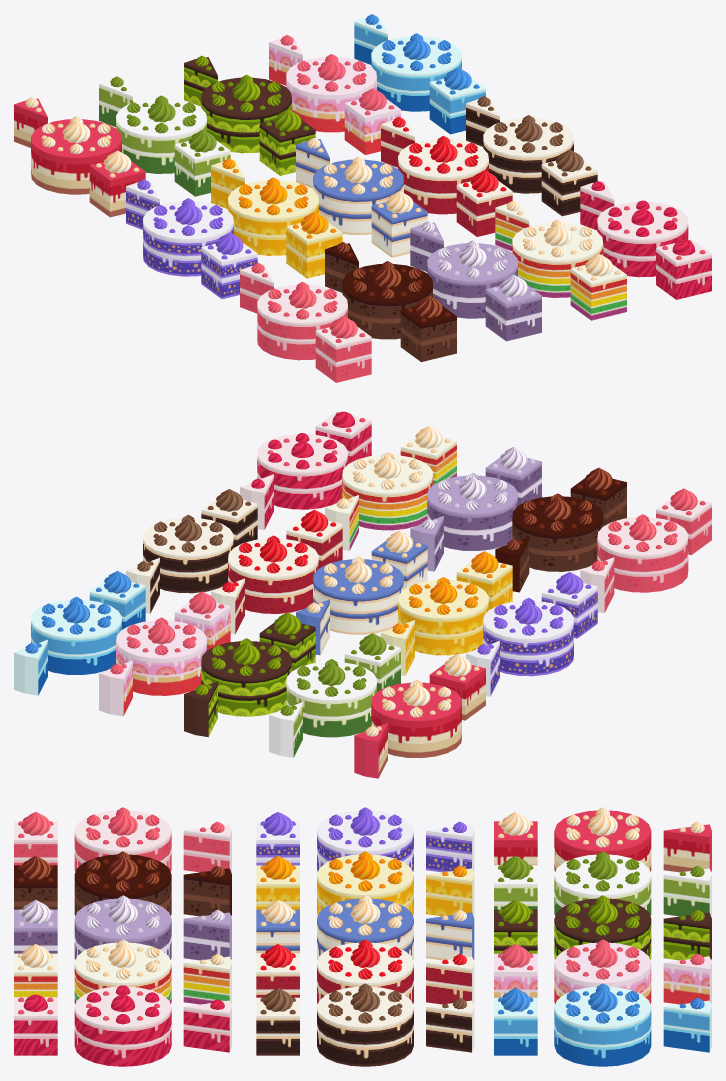
The model's file is cake.glb.
The picture shows the model from 3 angles, top to bottom: view 1: azimuth 30°, elevation 25°; view 2: azimuth 150°, elevation 25°; view 3: azimuth 270°, elevation 25°; orthographic projection. The views are drawn at different scales.
Parts seen in each view (by area): view 1: Whole (×15), Cube (×15), Slice (×15); view 2: Whole (×15), Cube (×15), Slice (×15); view 3: Whole (×15), Slice (×15), Cube (×15).
Part boxes in pixels (box(x1,y1,x2,y2)): Whole (×15): box(31, 33, 688, 360); Cube (×15): box(89, 67, 711, 382); Slice (×15): box(14, 14, 614, 313); Whole (×15): box(31, 433, 688, 758); Cube (×15): box(89, 411, 711, 720); Slice (×15): box(14, 474, 614, 778); Whole (×15): box(74, 807, 651, 1066); Slice (×15): box(183, 821, 711, 1052); Cube (×15): box(14, 811, 537, 1055).
Size of the model in its own units: 2.12 by 0.2662 by 2.88.
Materials: 16 (16 with a texture image).
